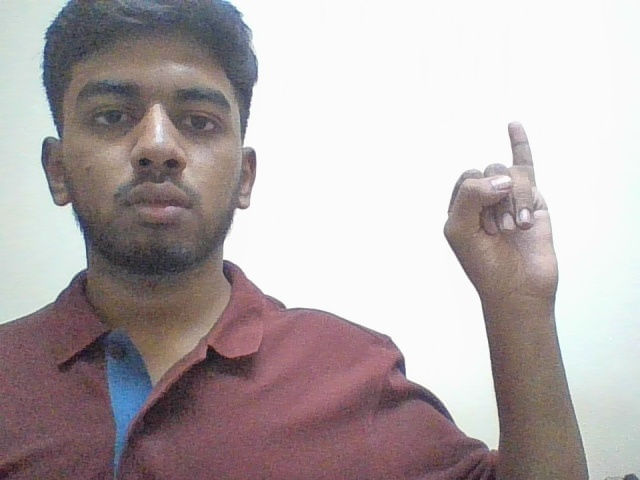I: (437, 120, 570, 323)
